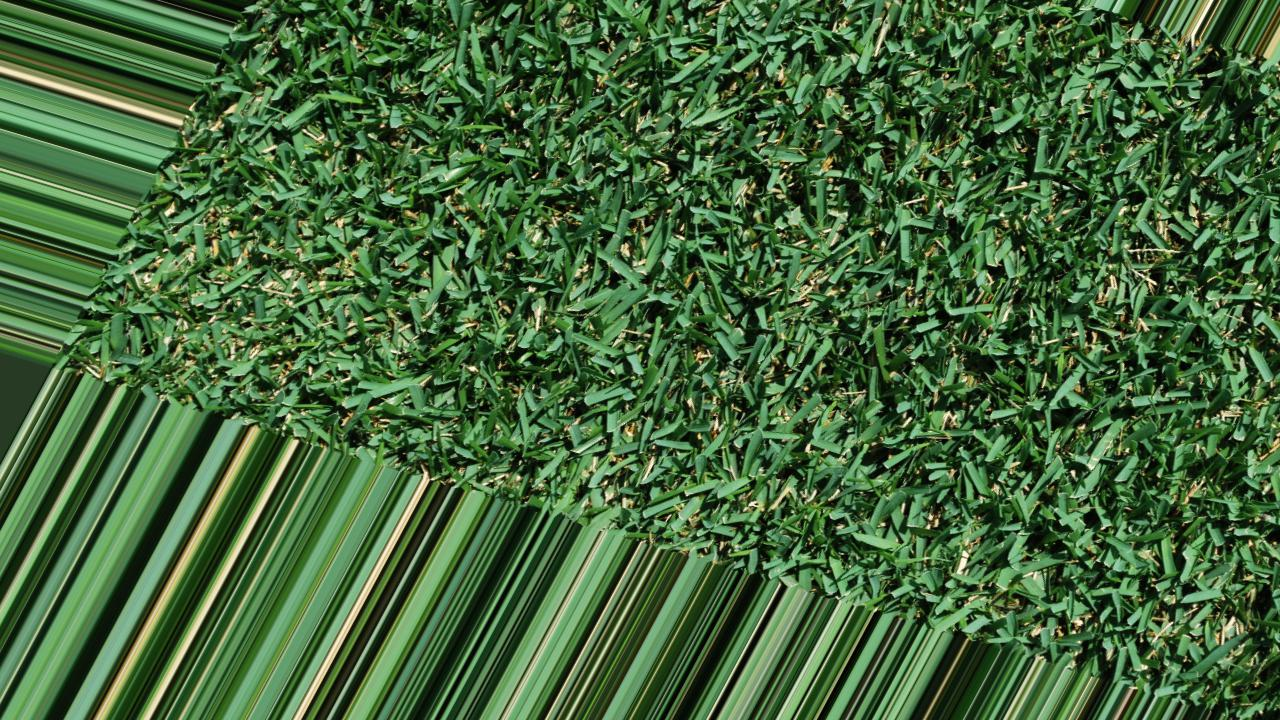patch: (281, 272, 294, 276)
